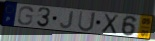3: (36, 7, 52, 28)
6: (121, 15, 138, 37)
G: (17, 6, 35, 26)
J: (59, 10, 75, 30)
U: (77, 10, 97, 33)
X: (100, 13, 120, 35)
